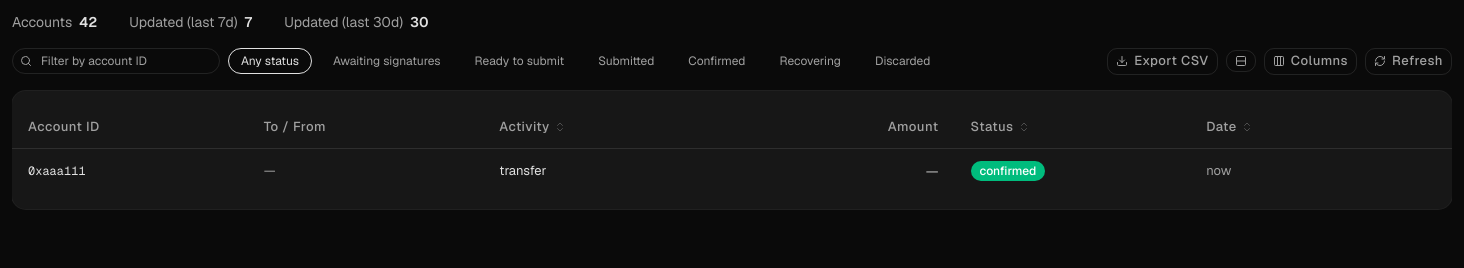
Test: TransactionsPanel › says the filter only covers the entries loaded so far
Step 1. Type "0xnothere" into the field labelled "Filter by account ID" → (116, 61), box top-left (12, 48), bottom-right (220, 74)
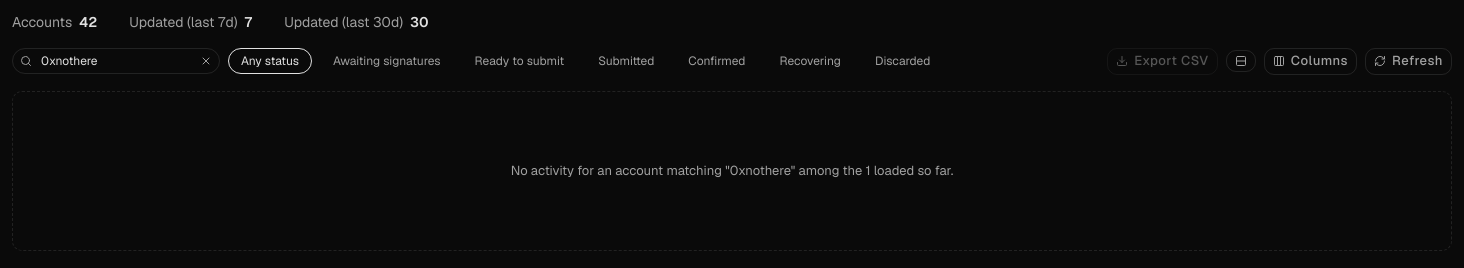
Now the text "among the 1 loaded so far" is shown, box top-left (511, 162), bottom-right (953, 179)
